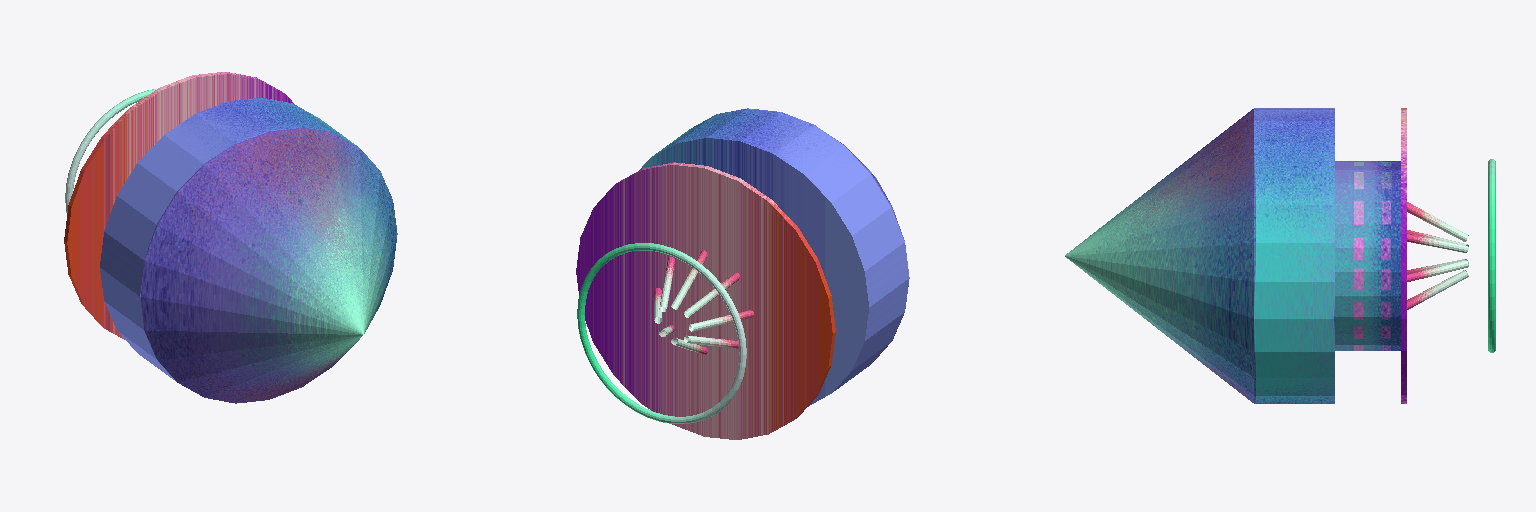
The picture shows the model from 3 angles: view 1: azimuth 30°, elevation 25°; view 2: azimuth 150°, elevation 25°; view 3: azimuth 270°, elevation 25°; orthographic projection.
Visible parts, largest first — view 1: UFO_Bmain, UFO_Ring_TOP; view 2: UFO_Bmain, UFO_Ring_TOP, UFO_BAR; view 3: UFO_Bmain, UFO_BAR, UFO_Ring_TOP.
Part boxes in pixels (bbox=[...]): UFO_Bmain: bbox=[64, 72, 397, 403]; UFO_Ring_TOP: bbox=[65, 89, 156, 212]; UFO_Bmain: bbox=[576, 108, 909, 439]; UFO_Ring_TOP: bbox=[577, 243, 746, 423]; UFO_BAR: bbox=[654, 250, 753, 354]; UFO_Bmain: bbox=[1065, 108, 1406, 403]; UFO_BAR: bbox=[1407, 202, 1468, 309]; UFO_Ring_TOP: bbox=[1488, 159, 1495, 352].
Size of the model in its own units: 0.5533 by 0.5532 by 0.8031.
2 materials, 2 textured.